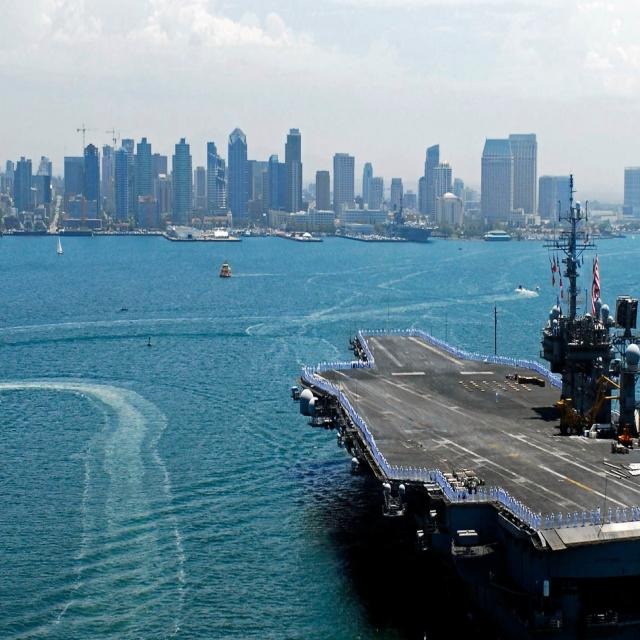Portanaves: (288, 170, 640, 640)
